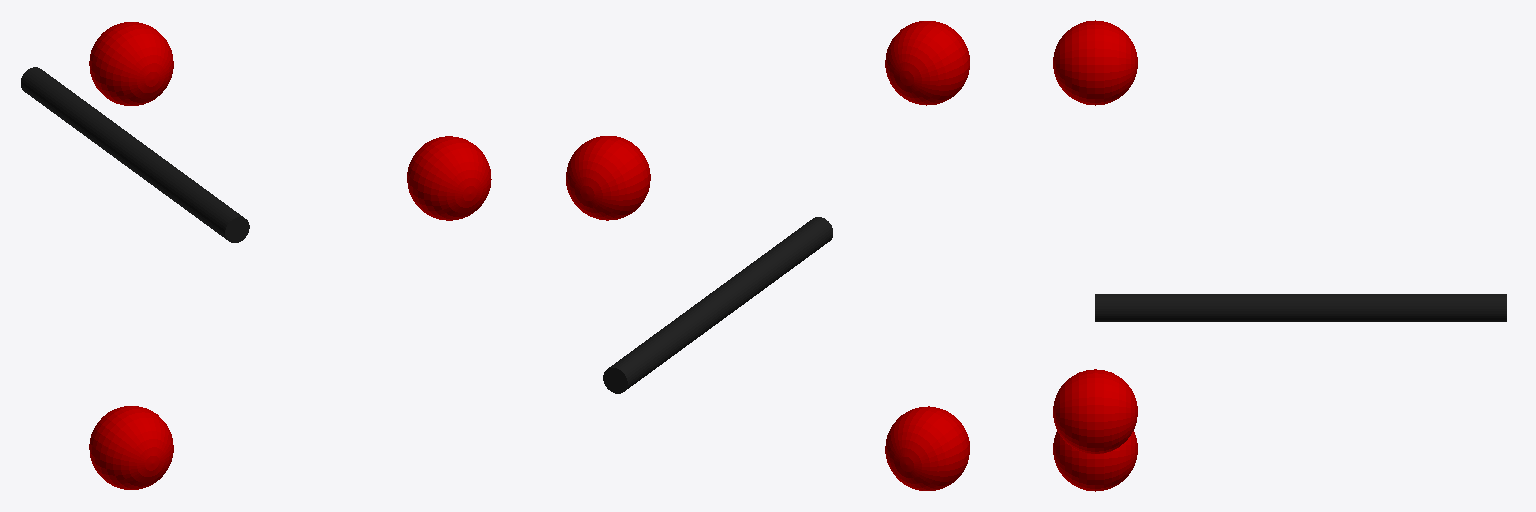
robot.urdf — Thing:
<?xml version="1.0" encoding="utf-8"?>
<!-- =================================================================================== -->
<!-- |    This document was autogenerated by xacro from mm.urdf.xacro                  | -->
<!-- |    EDITING THIS FILE BY HAND IS NOT RECOMMENDED                                 | -->
<!-- =================================================================================== -->
<robot name="Thing">
  <material name="dark_grey">
    <color rgba="0.2 0.2 0.2 1.0"/>
  </material>
  <material name="light_grey">
    <color rgba="0.4 0.4 0.4 1.0"/>
  </material>
  <material name="red">
    <color rgba="0.8 0.0 0.0 1.0"/>
  </material>
  <material name="white">
    <color rgba="0.9 0.9 0.9 1.0"/>
  </material>
  <material name="yellow">
    <color rgba="0.8 0.8 0.0 1.0"/>
  </material>
  <material name="black">
    <color rgba="0.15 0.15 0.15 1.0"/>
  </material>
  <link name="front_rocker_link">
    <visual>
      <origin rpy="1.57079632679 0 1.57079632679" xyz="0 0 0"/>
      <geometry>
        <mesh filename="assets/meshes/ridgeback/rocker.stl"/>
      </geometry>
      <material name="black"/>
    </visual>
    <inertial>
      <origin rpy="1.57079632679 0 1.57079632679" xyz="0 0 0"/>
      <mass value="10.267"/>
      <inertia ixx="0.0288" ixy="2.20484e-6" ixz="-1.3145e-5" iyy="0.4324" iyz="1.8944e-3" izz="0.4130"/>
    </inertial>
  </link>
  <joint name="front_rocker" type="fixed">
    <parent link="axle_link"/>
    <child link="front_rocker_link"/>
    <origin rpy="0 0 0" xyz="0.319 0 0"/>
    <axis xyz="1 0 0"/>
    <limit effort="0" lower="-0.08726" upper="0.08726" velocity="0"/>
  </joint>
  <link name="front_left_wheel_link">
    <visual>
      <origin rpy="1.57079632679 0 0" xyz="0 0 0"/>
      <geometry>
        <mesh filename="assets/meshes/ridgeback/wheel.stl"/>
      </geometry>
      <material name="black"/>
    </visual>
    <collision>
      <origin rpy="1.57079632679 0 0" xyz="0 0 0"/>
      <geometry>
        <cylinder length="0.079" radius="0.0759"/>
      </geometry>
    </collision>
    <inertial>
      <origin rpy="0 0 0" xyz="0 0 0"/>
      <mass value="2.3"/>
      <inertia ixx="3.3212e-3" ixy="0" ixz="0" iyy="6.6424e-3" iyz="0" izz="3.3212e-3"/>
    </inertial>
  </link>
  <joint name="front_left_wheel" type="fixed">
    <parent link="front_rocker_link"/>
    <child link="front_left_wheel_link"/>
    <origin rpy="0 0 0" xyz="0 0.2755 0"/>
    <axis xyz="0 1 0"/>
  </joint>
  <link name="front_right_wheel_link">
    <visual>
      <origin rpy="1.57079632679 0 0" xyz="0 0 0"/>
      <geometry>
        <mesh filename="assets/meshes/ridgeback/wheel.stl"/>
      </geometry>
      <material name="black"/>
    </visual>
    <collision>
      <origin rpy="1.57079632679 0 0" xyz="0 0 0"/>
      <geometry>
        <cylinder length="0.079" radius="0.0759"/>
      </geometry>
    </collision>
    <inertial>
      <origin rpy="0 0 0" xyz="0 0 0"/>
      <mass value="2.3"/>
      <inertia ixx="3.3212e-3" ixy="0" ixz="0" iyy="6.6424e-3" iyz="0" izz="3.3212e-3"/>
    </inertial>
  </link>
  <joint name="front_right_wheel" type="fixed">
    <parent link="front_rocker_link"/>
    <child link="front_right_wheel_link"/>
    <origin rpy="0 0 0" xyz="0 -0.2755 0"/>
    <axis xyz="0 1 0"/>
  </joint>
  <link name="rear_rocker_link">
    <visual>
      <origin rpy="1.57079632679 0 1.57079632679" xyz="0 0 0"/>
      <geometry>
        <mesh filename="assets/meshes/ridgeback/rocker.stl"/>
      </geometry>
      <material name="black"/>
    </visual>
    <inertial>
      <origin rpy="1.57079632679 0 1.57079632679" xyz="0 0 0"/>
      <mass value="10.267"/>
      <inertia ixx="0.0288" ixy="2.20484e-6" ixz="-1.3145e-5" iyy="0.4324" iyz="1.8944e-3" izz="0.4130"/>
    </inertial>
  </link>
  <joint name="rear_rocker" type="fixed">
    <parent link="axle_link"/>
    <child link="rear_rocker_link"/>
    <origin rpy="0 0 0" xyz="-0.319 0 0"/>
    <axis xyz="1 0 0"/>
    <limit effort="0" velocity="0"/>
  </joint>
  <link name="rear_left_wheel_link">
    <visual>
      <origin rpy="1.57079632679 0 0" xyz="0 0 0"/>
      <geometry>
        <mesh filename="assets/meshes/ridgeback/wheel.stl"/>
      </geometry>
      <material name="black"/>
    </visual>
    <collision>
      <origin rpy="1.57079632679 0 0" xyz="0 0 0"/>
      <geometry>
        <cylinder length="0.079" radius="0.0759"/>
      </geometry>
    </collision>
    <inertial>
      <origin rpy="0 0 0" xyz="0 0 0"/>
      <mass value="2.3"/>
      <inertia ixx="3.3212e-3" ixy="0" ixz="0" iyy="6.6424e-3" iyz="0" izz="3.3212e-3"/>
    </inertial>
  </link>
  <joint name="rear_left_wheel" type="fixed">
    <parent link="rear_rocker_link"/>
    <child link="rear_left_wheel_link"/>
    <origin rpy="0 0 0" xyz="0 0.2755 0"/>
    <axis xyz="0 1 0"/>
  </joint>
  <link name="rear_right_wheel_link">
    <visual>
      <origin rpy="1.57079632679 0 0" xyz="0 0 0"/>
      <geometry>
        <mesh filename="assets/meshes/ridgeback/wheel.stl"/>
      </geometry>
      <material name="black"/>
    </visual>
    <collision>
      <origin rpy="1.57079632679 0 0" xyz="0 0 0"/>
      <geometry>
        <cylinder length="0.079" radius="0.0759"/>
      </geometry>
    </collision>
    <inertial>
      <origin rpy="0 0 0" xyz="0 0 0"/>
      <mass value="2.3"/>
      <inertia ixx="3.3212e-3" ixy="0" ixz="0" iyy="6.6424e-3" iyz="0" izz="3.3212e-3"/>
    </inertial>
  </link>
  <joint name="rear_right_wheel" type="fixed">
    <parent link="rear_rocker_link"/>
    <child link="rear_right_wheel_link"/>
    <origin rpy="0 0 0" xyz="0 -0.2755 0"/>
    <axis xyz="0 1 0"/>
  </joint>
  <link name="base_link"/>
  <joint name="base_link_joint" type="fixed">
    <origin rpy="0 0 0" xyz="0 0 0"/>
    <parent link="base_link"/>
    <child link="chassis_link"/>
  </joint>
  <link name="chassis_link">
    <visual>
      <origin rpy="0 0 0" xyz="0 0 0"/>
      <geometry>
        <mesh filename="assets/meshes/ridgeback/body.stl"/>
      </geometry>
      <material name="black"/>
    </visual>
    <collision>
      <origin xyz="0 0 0"/>
      <geometry>
        <mesh filename="assets/meshes/ridgeback/body-collision.stl"/>
      </geometry>
    </collision>
    <inertial>
      <origin rpy="1.57079632679 0 1.57079632679" xyz="0.012 0.002 0.067"/>
      <!-- <origin rpy="1.57079632679 0 1.57079632679" xyz="0 0 0"/> -->
      <mass value="165.304"/>
      <inertia ixx="4.4744" ixy="0.03098" ixz="0.003647" iyy="7.1624" iyz="0.1228" izz="4.6155"/>
    </inertial>
  </link>
  <joint name="right_side_cover_link_joint" type="fixed">
    <origin rpy="0 0 0" xyz="0 0 0"/>
    <parent link="chassis_link"/>
    <child link="right_side_cover_link"/>
  </joint>
  <joint name="left_side_cover_link_joint" type="fixed">
    <origin rpy="0 0 0" xyz="0 0 0"/>
    <parent link="chassis_link"/>
    <child link="left_side_cover_link"/>
  </joint>
  <link name="left_side_cover_link">
    <visual>
      <origin rpy="0 0 3.14159265359" xyz="0 0 0"/>
      <geometry>
        <mesh filename="assets/meshes/ridgeback/side-cover.stl"/>
      </geometry>
      <material name="yellow"/>
    </visual>
  </link>
  <link name="right_side_cover_link">
    <visual>
      <origin rpy="0 0 0" xyz="0 0 0"/>
      <geometry>
        <mesh filename="assets/meshes/ridgeback/side-cover.stl"/>
      </geometry>
      <material name="yellow"/>
    </visual>
  </link>
  <joint name="front_cover_link_joint" type="fixed">
    <origin rpy="0 0 0" xyz="0 0 0"/>
    <parent link="chassis_link"/>
    <child link="front_cover_link"/>
  </joint>
  <link name="front_cover_link">
    <visual>
      <origin rpy="0 0 0" xyz="0 0 0"/>
      <geometry>
        <mesh filename="assets/meshes/ridgeback/end-cover.stl"/>
      </geometry>
      <material name="black"/>
    </visual>
  </link>
  <joint name="rear_cover_link_joint" type="fixed">
    <origin rpy="0 0 0" xyz="0 0 0"/>
    <parent link="chassis_link"/>
    <child link="rear_cover_link"/>
  </joint>
  <link name="rear_cover_link">
    <visual>
      <origin rpy="0 0 3.14159265359" xyz="0 0 0"/>
      <geometry>
        <mesh filename="assets/meshes/ridgeback/end-cover.stl"/>
      </geometry>
      <material name="black"/>
    </visual>
  </link>
  <joint name="front_lights_link_joint" type="fixed">
    <origin rpy="0 0 0" xyz="0 0 0"/>
    <parent link="chassis_link"/>
    <child link="front_lights_link"/>
  </joint>
  <joint name="rear_lights_link_joint" type="fixed">
    <origin rpy="0 0 0" xyz="0 0 0"/>
    <parent link="chassis_link"/>
    <child link="rear_lights_link"/>
  </joint>
  <link name="front_lights_link">
    <visual>
      <origin rpy="0 0 0" xyz="0 0 0"/>
      <geometry>
        <mesh filename="assets/meshes/ridgeback/lights.stl"/>
      </geometry>
      <material name="white"/>
    </visual>
  </link>
  <link name="rear_lights_link">
    <visual>
      <origin rpy="0 0 3.14159265359" xyz="0 0 0"/>
      <geometry>
        <mesh filename="assets/meshes/ridgeback/lights.stl"/>
      </geometry>
      <material name="red"/>
    </visual>
  </link>
  <joint name="top_link_joint" type="fixed">
    <origin rpy="0 0 0" xyz="0 0 0"/>
    <parent link="chassis_link"/>
    <child link="top_link"/>
  </joint>
  <link name="top_link">
    <visual>
      <origin rpy="0 0 0" xyz="0 0 0"/>
      <geometry>
        <mesh filename="assets/meshes/ridgeback/top.stl"/>
      </geometry>
      <material name="black"/>
    </visual>
    <collision>
      <origin rpy="0 0 0" xyz="0 0 0"/>
      <geometry>
        <mesh filename="assets/meshes/ridgeback/top.stl"/>
      </geometry>
    </collision>
  </link>
  <joint name="axle_joint" type="fixed">
    <origin rpy="0 0 0" xyz="0 0 0.05"/>
    <parent link="chassis_link"/>
    <child link="axle_link"/>
  </joint>
  <link name="axle_link">
    <visual>
      <origin rpy="0 1.57079632679 0" xyz="0 0 0"/>
      <geometry>
        <mesh filename="assets/meshes/ridgeback/axle.stl"/>
      </geometry>
      <material name="black"/>
    </visual>
  </link>
  <link name="imu_link">
    <inertial>
      <mass value="0.001"/>
      <origin rpy="0 0 0" xyz="0 0 0"/>
      <inertia ixx="1e-09" ixy="0.0" ixz="0.0" iyy="1e-09" iyz="0.0" izz="1e-09"/>
    </inertial>
  </link>
  <joint name="imu_joint" type="fixed">
    <parent link="chassis_link"/>
    <child link="imu_link"/>
    <origin rpy="0 0 0" xyz="0.2085 -0.2902 0.1681"/>
  </joint>
  <link name="mid_mount"/>
  <joint name="mid_mount_joint" type="fixed">
    <parent link="base_link"/>
    <child link="mid_mount"/>
    <origin rpy="0 0 0" xyz="0 0 0.28"/>
  </joint>

  <link name="arch_link">
    <visual>
      <geometry>
        <mesh filename="assets/meshes/tor11_mech.dae"/>
      </geometry>
    </visual>
    <!-- <collision> -->
    <!-- 	<geometry> -->
    <!-- 		<mesh filename="package://mm_description/meshes/tor11_mech.dae" /> -->
    <!-- 	</geometry> -->
    <!-- </collision> -->
  </link>
  <joint name="arch_joint" type="fixed">
    <origin rpy="0 0 1.57079632679" xyz="0 0 0.278"/>
    <parent link="top_link"/>
    <child link="arch_link"/>
  </joint>

  <!--
  Author: [author]
  Contributers: [author], [author], [author]
-->
  <!-- measured from model -->
  <link name="ur10_arm_base_link">
    <visual>
      <geometry>
        <mesh filename="assets/meshes/ur10/visual/base.dae"/>
      </geometry>
      <material name="LightGrey">
        <color rgba="0.7 0.7 0.7 1.0"/>
      </material>
    </visual>
    <collision>
      <geometry>
        <mesh filename="assets/meshes/ur10/collision/base.stl"/>
      </geometry>
    </collision>
    <inertial>
      <mass value="4.0"/>
      <origin rpy="0 0 0" xyz="0.0 0.0 0.0"/>
      <inertia ixx="0.0061063308908" ixy="0.0" ixz="0.0" iyy="0.0061063308908" iyz="0.0" izz="0.01125"/>
    </inertial>
  </link>
  <joint name="ur10_arm_shoulder_pan_joint" type="revolute">
    <parent link="ur10_arm_base_link"/>
    <child link="ur10_arm_shoulder_link"/>
    <origin rpy="0.0 0.0 0.0" xyz="0.0 0.0 0.1273"/>
    <axis xyz="0 0 1"/>
    <limit effort="330.0" lower="-6.28318530718" upper="6.28318530718" velocity="2.16"/>
    <dynamics damping="0.0" friction="0.0"/>
  </joint>
  <link name="ur10_arm_shoulder_link">
    <visual>
      <geometry>
        <mesh filename="assets/meshes/ur10/visual/shoulder.dae"/>
      </geometry>
      <material name="LightGrey">
        <color rgba="0.7 0.7 0.7 1.0"/>
      </material>
    </visual>
    <collision>
      <geometry>
        <mesh filename="assets/meshes/ur10/collision/shoulder.stl"/>
      </geometry>
    </collision>
    <inertial>
      <mass value="7.778"/>
      <origin rpy="0 0 0" xyz="0.0 0.0 0.0"/>
      <inertia ixx="0.0314743125769" ixy="0.0" ixz="0.0" iyy="0.0314743125769" iyz="0.0" izz="0.021875625"/>
    </inertial>
  </link>
  <joint name="ur10_arm_shoulder_lift_joint" type="revolute">
    <parent link="ur10_arm_shoulder_link"/>
    <child link="ur10_arm_upper_arm_link"/>
    <origin rpy="0.0 1.57079632679 0.0" xyz="0.0 0.220941 0.0"/>
    <axis xyz="0 1 0"/>
    <limit effort="330.0" lower="-6.28318530718" upper="6.28318530718" velocity="2.16"/>
    <dynamics damping="0.0" friction="0.0"/>
  </joint>
  <link name="ur10_arm_upper_arm_link">
    <visual>
      <geometry>
        <mesh filename="assets/meshes/ur10/visual/upperarm.dae"/>
      </geometry>
      <material name="LightGrey">
        <color rgba="0.7 0.7 0.7 1.0"/>
      </material>
    </visual>
    <collision>
      <geometry>
        <mesh filename="assets/meshes/ur10/collision/upperarm.stl"/>
      </geometry>
    </collision>
    <inertial>
      <mass value="12.93"/>
      <origin rpy="0 0 0" xyz="0.0 -0.045 0.306"/>
      <inertia ixx="0.421753803798" ixy="0.0" ixz="0.0" iyy="0.421753803798" iyz="0.0" izz="0.036365625"/>
    </inertial>
  </link>
  <joint name="ur10_arm_elbow_joint" type="revolute">
    <parent link="ur10_arm_upper_arm_link"/>
    <child link="ur10_arm_forearm_link"/>
    <origin rpy="0.0 0.0 0.0" xyz="0.0 -0.1719 0.612"/>
    <axis xyz="0 1 0"/>
    <limit effort="150.0" lower="-3.14159265359" upper="3.14159265359" velocity="3.15"/>
    <dynamics damping="0.0" friction="0.0"/>
  </joint>
  <link name="ur10_arm_forearm_link">
    <visual>
      <geometry>
        <mesh filename="assets/meshes/ur10/visual/forearm.dae"/>
      </geometry>
      <material name="LightGrey">
        <color rgba="0.7 0.7 0.7 1.0"/>
      </material>
    </visual>
    <collision>
      <geometry>
        <mesh filename="assets/meshes/ur10/collision/forearm.stl"/>
      </geometry>
    </collision>
    <inertial>
      <mass value="3.87"/>
      <origin rpy="0 0 0" xyz="0.0 0.0 0.28615"/>
      <inertia ixx="0.111069694097" ixy="0.0" ixz="0.0" iyy="0.111069694097" iyz="0.0" izz="0.010884375"/>
    </inertial>
  </link>
  <joint name="ur10_arm_wrist_1_joint" type="revolute">
    <parent link="ur10_arm_forearm_link"/>
    <child link="ur10_arm_wrist_1_link"/>
    <origin rpy="0.0 1.57079632679 0.0" xyz="0.0 0.0 0.5723"/>
    <axis xyz="0 1 0"/>
    <limit effort="54.0" lower="-6.28318530718" upper="6.28318530718" velocity="3.2"/>
    <dynamics damping="0.0" friction="0.0"/>
  </joint>

  <link name="ur10_arm_wrist_1_link">
    <visual>
      <geometry>
        <mesh filename="assets/meshes/ur10/visual/wrist1.dae"/>
      </geometry>
      <material name="LightGrey">
        <color rgba="0.7 0.7 0.7 1.0"/>
      </material>
    </visual>
    <collision>
      <geometry>
        <mesh filename="assets/meshes/ur10/collision/wrist1.stl"/>
      </geometry>
    </collision>
    <inertial>
      <mass value="1.96"/>
      <origin rpy="0 0 0" xyz="0.0 0.1149 0.0"/>
      <inertia ixx="0.0051082479567" ixy="0.0" ixz="0.0" iyy="0.0051082479567" iyz="0.0" izz="0.0055125"/>
    </inertial>
  </link>

  <joint name="ur10_arm_wrist_2_joint" type="revolute">
    <parent link="ur10_arm_wrist_1_link"/>
    <child link="ur10_arm_wrist_2_link"/>
    <origin rpy="0.0 0.0 0.0" xyz="0.0 0.1149 0.0"/>
    <axis xyz="0 0 1"/>
    <limit effort="54.0" lower="-6.28318530718" upper="6.28318530718" velocity="3.2"/>
    <dynamics damping="0.0" friction="0.0"/>
  </joint>

  <link name="ur10_arm_wrist_2_link">
    <visual>
      <geometry>
        <mesh filename="assets/meshes/ur10/visual/wrist2.dae"/>
      </geometry>
      <material name="LightGrey">
        <color rgba="0.7 0.7 0.7 1.0"/>
      </material>
    </visual>
    <collision>
      <geometry>
        <mesh filename="assets/meshes/ur10/collision/wrist2.stl"/>
      </geometry>
    </collision>
    <inertial>
      <mass value="1.96"/>
      <origin rpy="0 0 0" xyz="0.0 0.0 0.1157"/>
      <inertia ixx="0.0051082479567" ixy="0.0" ixz="0.0" iyy="0.0051082479567" iyz="0.0" izz="0.0055125"/>
    </inertial>
  </link>

  <joint name="ur10_arm_wrist_3_joint" type="revolute">
    <parent link="ur10_arm_wrist_2_link"/>
    <child link="ur10_arm_wrist_3_link"/>
    <origin rpy="0.0 0.0 0.0" xyz="0.0 0.0 0.1157"/>
    <axis xyz="0 1 0"/>
    <limit effort="54.0" lower="-6.28318530718" upper="6.28318530718" velocity="3.2"/>
    <dynamics damping="0.0" friction="0.0"/>
  </joint>

  <link name="ur10_arm_wrist_3_link">
    <visual>
      <geometry>
        <mesh filename="assets/meshes/ur10/visual/wrist3.dae"/>
      </geometry>
      <material name="LightGrey">
        <color rgba="0.7 0.7 0.7 1.0"/>
      </material>
    </visual>
    <collision>
      <geometry>
        <mesh filename="assets/meshes/ur10/collision/wrist3.stl"/>
      </geometry>
    </collision>
    <inertial>
      <mass value="0.202"/>
      <origin rpy="1.57079632679 0 0" xyz="0.0 0.07695 0.0"/>
      <inertia ixx="0.000117921661165" ixy="0.0" ixz="0.0" iyy="0.000117921661165" iyz="0.0" izz="0.000204525"/>
    </inertial>
  </link>

  <joint name="ur10_arm_ee_fixed_joint" type="fixed">
    <parent link="ur10_arm_wrist_3_link"/>
    <child link="ur10_arm_ee_link"/>
    <origin rpy="0.0 0.0 1.57079632679" xyz="0.0 0.0922 0.0"/>
  </joint>

  <link name="ur10_arm_ee_link">
    <collision>
      <geometry>
        <box size="0.01 0.01 0.01"/>
      </geometry>
      <origin rpy="0 0 0" xyz="-0.01 0 0"/>
    </collision>
  </link>

  <!-- ROS base_link to UR 'Base' Coordinates transform -->
  <link name="ur10_arm_base"/>
  <joint name="ur10_arm_base_link-base_fixed_joint" type="fixed">
    <!-- NOTE: this rotation is only needed as long as base_link itself is
                 not corrected wrt the real robot (ie: rotated over 180
                 degrees)
      -->
    <origin rpy="0 0 -3.14159265359" xyz="0 0 0"/>
    <parent link="ur10_arm_base_link"/>
    <child link="ur10_arm_base"/>
  </joint>

  <joint name="ur10_arm_wrist_3_link-tool0_fixed_joint" type="fixed">
    <origin rpy="-1.57079632679 0 0" xyz="0 0.0922 0"/>
    <parent link="ur10_arm_wrist_3_link"/>
    <child link="ur10_arm_tool0"/>
  </joint>

  <!-- Frame coincident with all-zeros TCP on UR controller -->
  <!-- <link name="ur10_arm_tool0"/> -->
  <link name="ur10_arm_tool0">
    <visual>
      <!-- start halfway along the cylinder -->
      <origin rpy="0 0 0" xyz="0 0 0.145"/>
      <geometry>
        <cylinder length="0.290" radius="0.01"/>
      </geometry>
      <material name="black"/>
    </visual>
    <collision>
      <origin rpy="0 0 0" xyz="0 0 0.145"/>
      <geometry>
        <cylinder length="0.290" radius="0.01"/>
      </geometry>
    </collision>
  </link>

  <joint name="tool0_tcp_fixed_joint" type="fixed">
    <origin rpy="0.0 0.0 0.0" xyz="0.0 0.0 0.290"/>
    <parent link="ur10_arm_tool0"/>
    <child link="thing_tool"/>
  </joint>

<!-- s = 0.3 -->
<!-- h = 0.08660254037844387 -->
<!-- r = 0.17320508075688773 -->

  <!-- Custom tool for tray balancing -->
  <!-- Frame: z forward, x up, y right -->
  <link name="thing_tool">
    <visual>
      <origin rpy="0 0 0" xyz="0.1732 0 0"/>
      <geometry>
        <sphere radius="0.03"/>
      </geometry>
      <material name="red"/>
    </visual>

    <visual>
      <origin rpy="0 0 0" xyz="-0.0866 0.15 0"/>
      <geometry>
        <sphere radius="0.03"/>
      </geometry>
      <material name="red"/>
    </visual>

    <visual>
      <origin rpy="0 0 0" xyz="-0.0866 -0.15 0"/>
      <geometry>
        <sphere radius="0.03"/>
      </geometry>
      <material name="red"/>
    </visual>

    <collision>
      <origin rpy="0 0 0" xyz="0.1732 0 0"/>
      <geometry>
        <sphere radius="0.03"/>
      </geometry>
    </collision>

    <collision>
      <origin rpy="0 0 0" xyz="-0.0866 0.15 0"/>
      <geometry>
        <sphere radius="0.03"/>
      </geometry>
    </collision>

    <collision>
      <origin rpy="0 0 0" xyz="-0.0866 -0.15 0"/>
      <geometry>
        <sphere radius="0.03"/>
      </geometry>
    </collision>

    <inertial>
      <origin rpy="0 0 0" xyz="0 0 0"/>
      <mass value="0.1"/>
      <!-- not accurate, but pybullet recomputes this by default -->
      <inertia ixx="1" ixy="0" ixz="0" iyy="1" iyz="0" izz="1"/>
    </inertial>
  </link>

  <!-- <joint name="tool0_tcp_fixed_joint" type="fixed"> -->
  <!--   <origin rpy="1.5707963 0.0 0.26179939" xyz="0.0 0.0 0.29"/> -->
  <!--   <parent link="ur10_arm_tool0"/> -->
  <!--   <child link="thing_tool"/> -->
  <!-- </joint> -->

  <!-- Join arm -->
  <joint name="ur10_arm_base" type="fixed">
    <parent link="arch_link"/>
    <child link="ur10_arm_base_link"/>
    <origin rpy="0.0 0.0 1.57079632679" xyz="0.01 -0.27 0.375"/>
  </joint>
</robot>

--- Render facts (derived) ---
Views: 3 orthographic renders of the robot side by side, from view 1: azimuth 30°, elevation 25°; view 2: azimuth 150°, elevation 25°; view 3: azimuth 270°, elevation 25°.
Robot: Thing — 30 links, 29 joints (6 revolute, 23 fixed); root link base_link; default pose: all joints at 0.
Visible links, largest first — view 1: thing_tool, ur10_arm_tool0; view 2: thing_tool, ur10_arm_tool0; view 3: thing_tool, ur10_arm_tool0.
Boxes of the visible links, <box> form: thing_tool: <box>89,22,491,489</box>; ur10_arm_tool0: <box>21,67,249,242</box>; thing_tool: <box>566,21,969,490</box>; ur10_arm_tool0: <box>603,217,832,393</box>; thing_tool: <box>1053,20,1137,491</box>; ur10_arm_tool0: <box>1095,294,1506,321</box>.
Bounding box of the posed robot: 0.3198 × 0.32 × 0.36 m (x, y, z).
Meshes: 16 distinct files referenced, 0 mesh visuals loaded (none loaded); not drawn: 23 (reference not matched to a file when rendering).